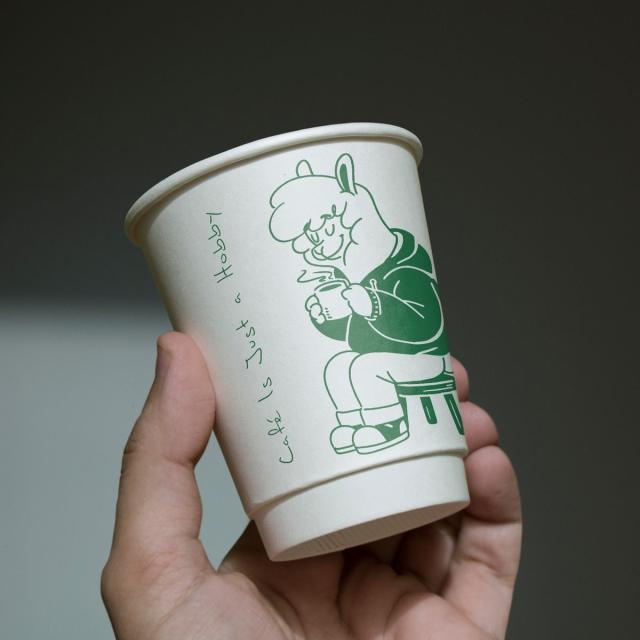paper cup: (124, 122, 471, 561)
